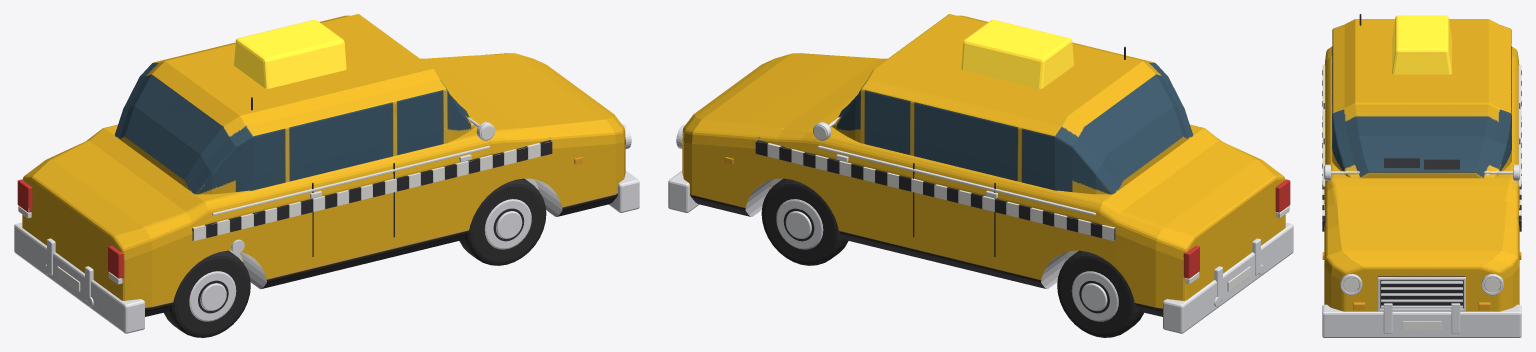
File: Modle_Vehicle_AcrossTaxi.glb
3 views of the same model, side by side, from view 1: azimuth 30°, elevation 25°; view 2: azimuth 150°, elevation 25°; view 3: azimuth 270°, elevation 25° (orthographic). The views are drawn at different scales.
Visible parts, largest first — view 1: GEO-TaxiAcross; view 2: GEO-TaxiAcross; view 3: GEO-TaxiAcross.
Boxes of the visible parts, left/top/right/bottom form: GEO-TaxiAcross: left=14, top=14, right=639, bottom=337; GEO-TaxiAcross: left=668, top=14, right=1293, bottom=337; GEO-TaxiAcross: left=1322, top=14, right=1521, bottom=337.
Bounding box in the file's own units: 5.2 × 2.25 × 1.95.
9 materials, 9 textured.
